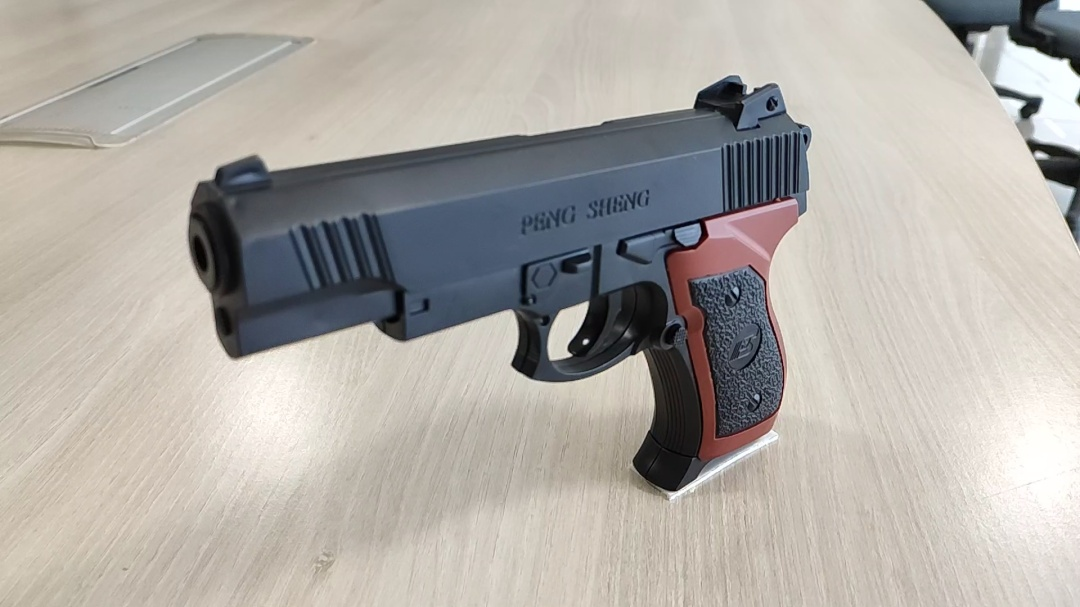gun: (186, 72, 813, 496)
